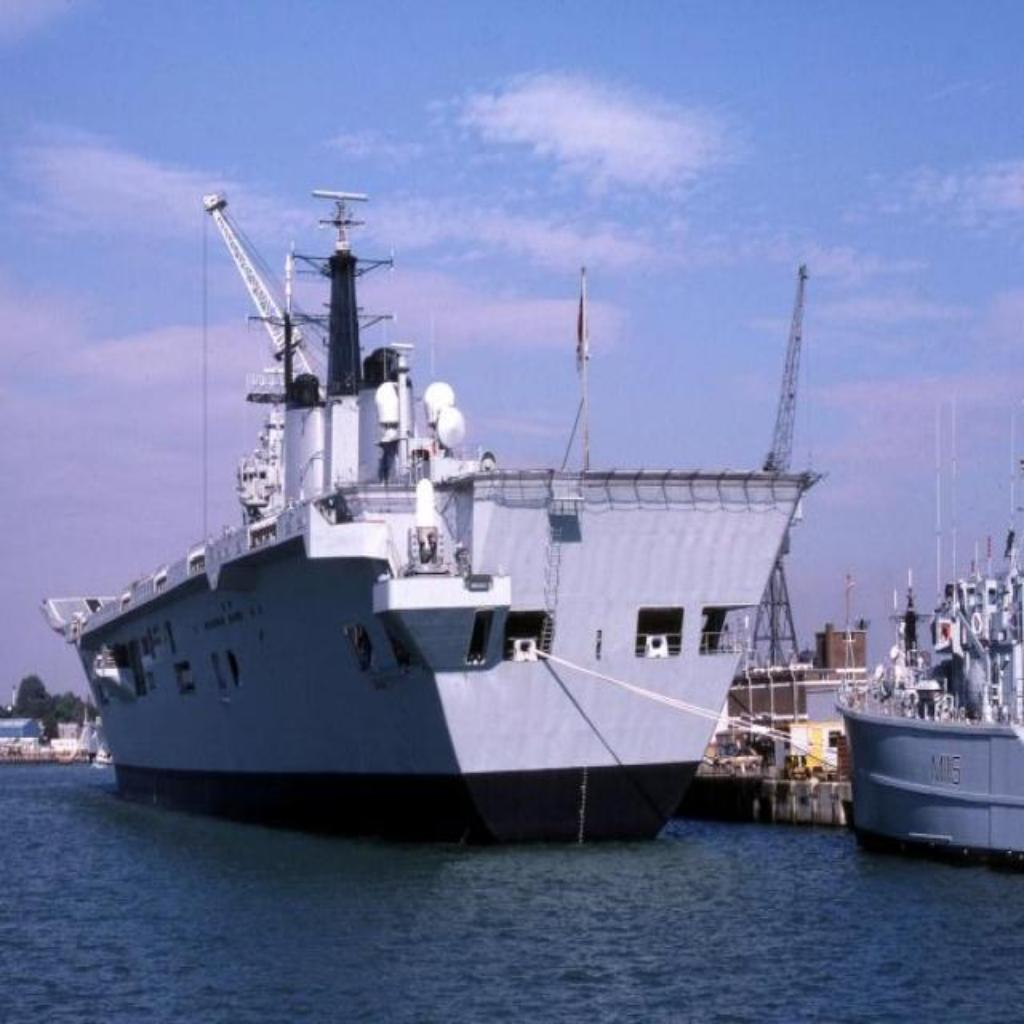Warship: (24, 177, 820, 849)
